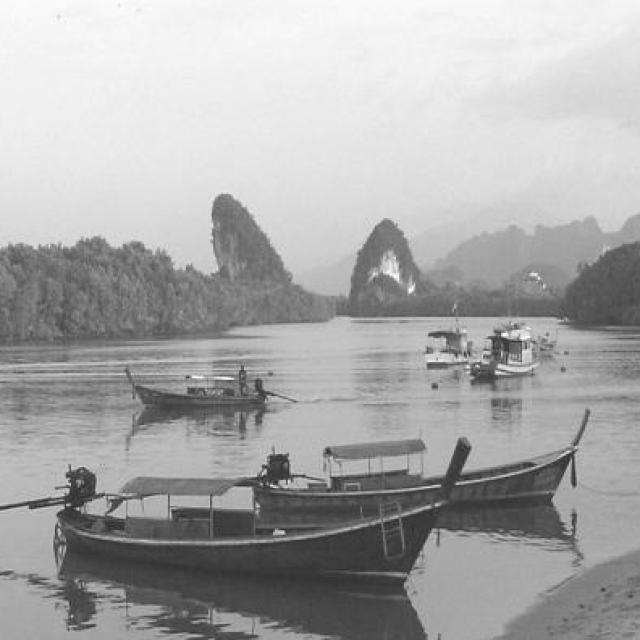ship: (60, 471, 454, 584), (253, 439, 584, 521), (133, 365, 271, 408), (471, 318, 542, 383), (421, 328, 473, 369)
